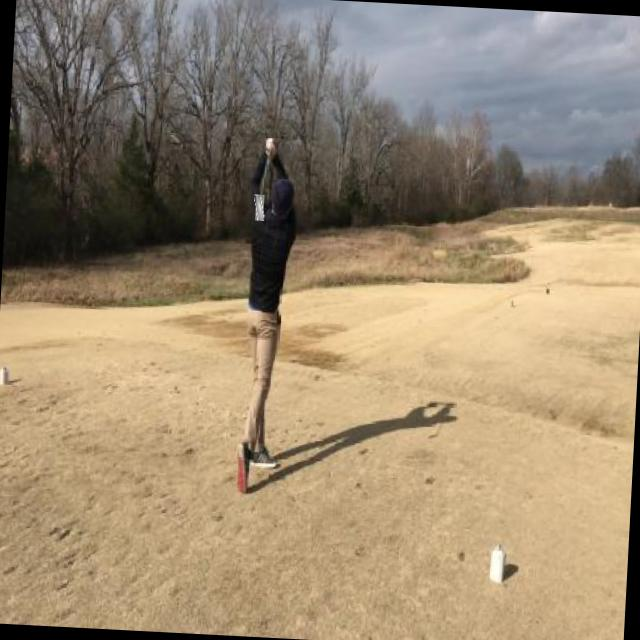club head: (256, 195, 264, 221)
